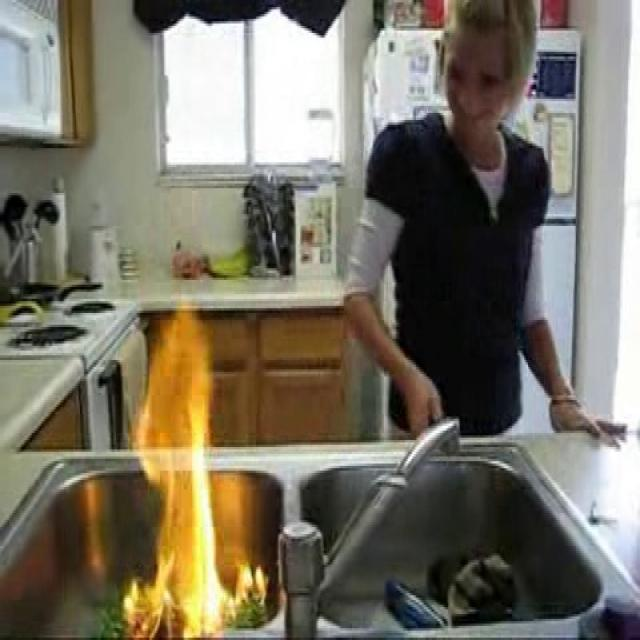fire: (131, 296, 235, 621)
